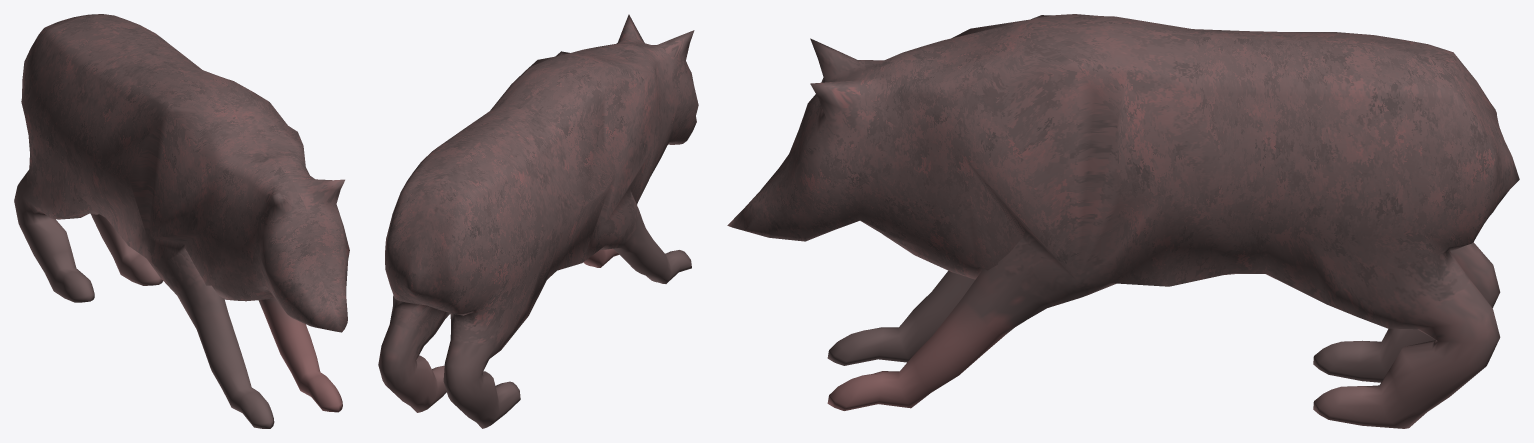
Rendered from piesblend_000031.obj.
3 views of the same model, side by side, from view 1: azimuth 30°, elevation 25°; view 2: azimuth 150°, elevation 25°; view 3: azimuth 270°, elevation 25° (orthographic). The views are drawn at different scales.
Visible parts, largest first — view 1: Cube; view 2: Cube; view 3: Cube.
Boxes of the visible parts, bbox=[...] form: Cube: bbox=[14, 14, 349, 428]; Cube: bbox=[378, 14, 698, 428]; Cube: bbox=[727, 14, 1519, 428].
Size of the model in its own units: 2.55 by 4.92 by 9.29.
1 material, 1 textured.
